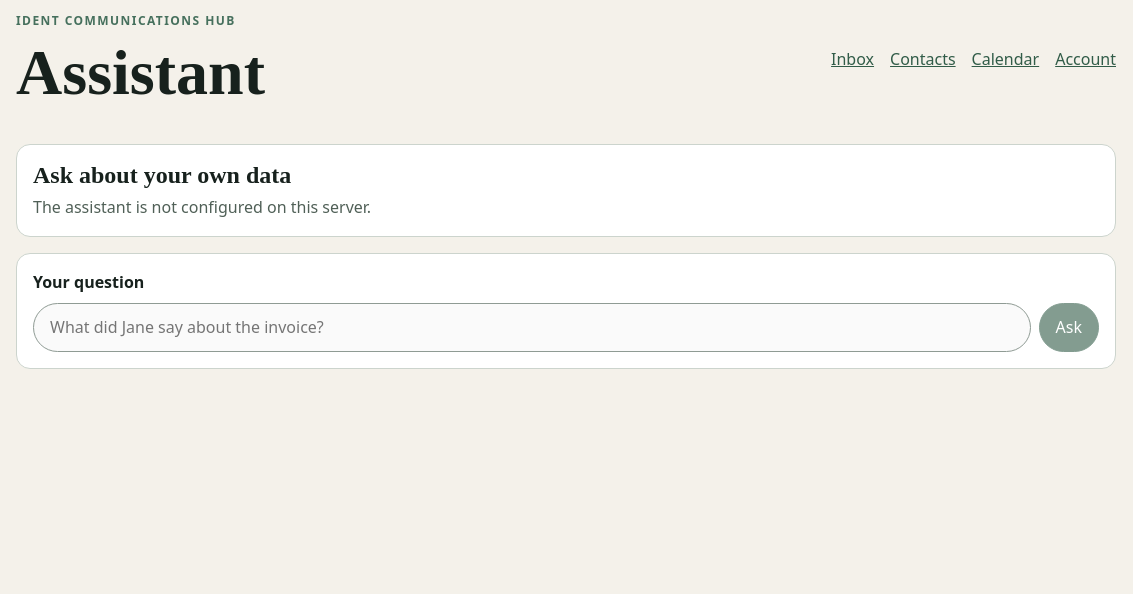
Test: AssistantClient › shows exactly what was sent to the provider with the answer
The image size is (1133, 594).
Expected: the button "Ask" is shown, [1039, 303, 1099, 352]
Type "invoice total?" into the field labelled "Your question" at (532, 327), box [33, 303, 1031, 352]
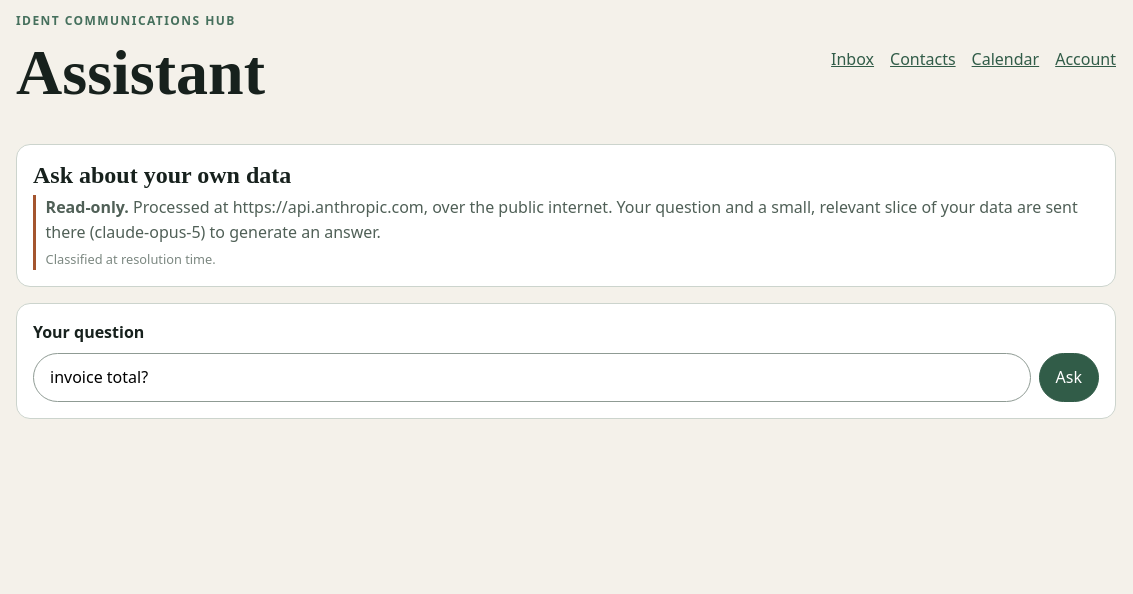
Click the button "Ask" at (1069, 378), box [1039, 353, 1099, 402]
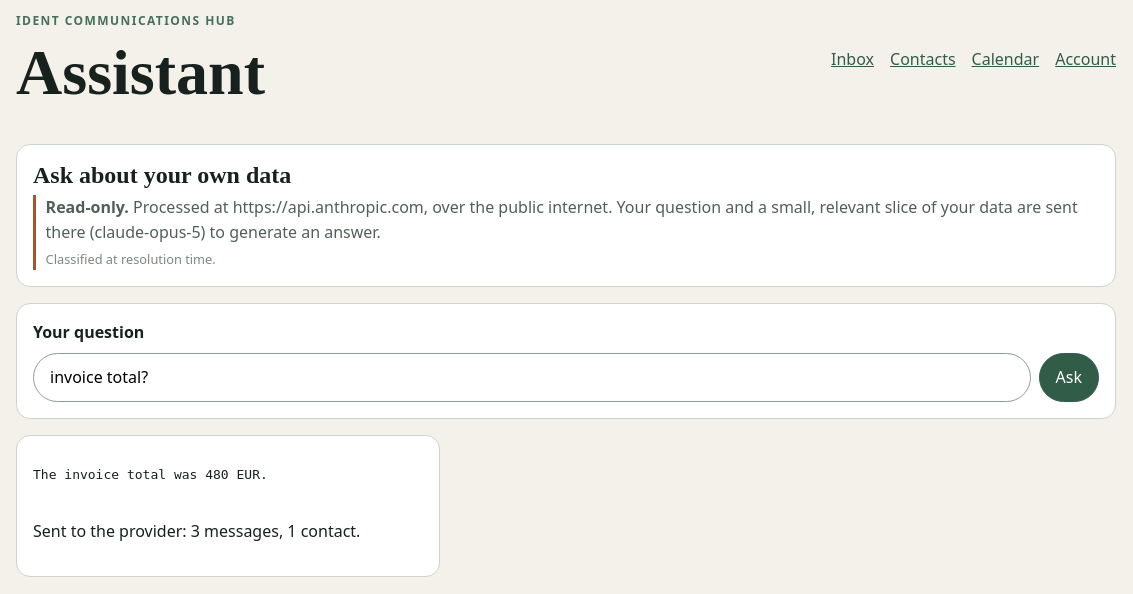
Expected: the text "The invoice total was 480 EUR." is shown, [33, 467, 268, 482]
Expected: the text "Sent to the provider: 3 messages, 1 contact." is shown, [33, 520, 360, 542]
